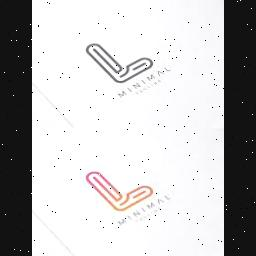l: (78, 36, 158, 84)
